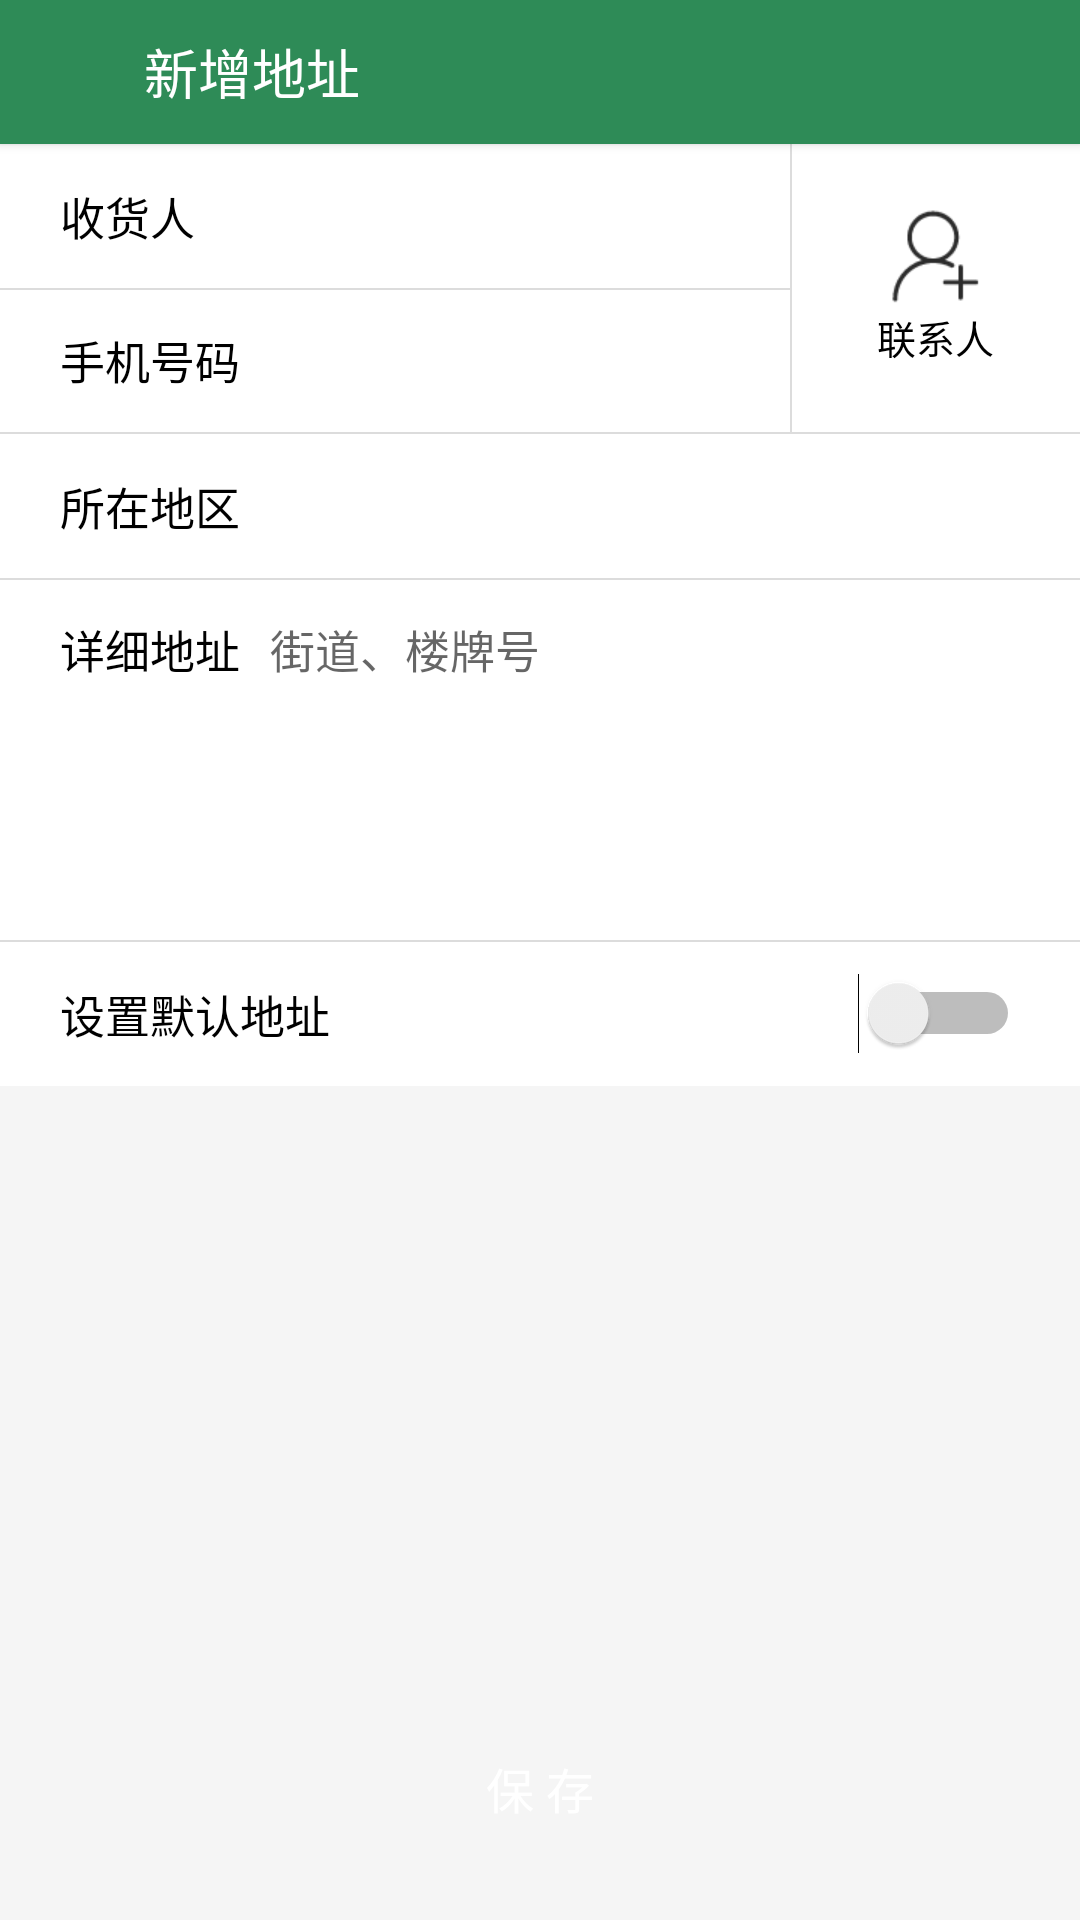

Where icons sit on this 1080 x 1920 app screen, as (left=x1, top=y1, right=x2, bottom=y2):
add contact: (left=892, top=210, right=979, bottom=302)
